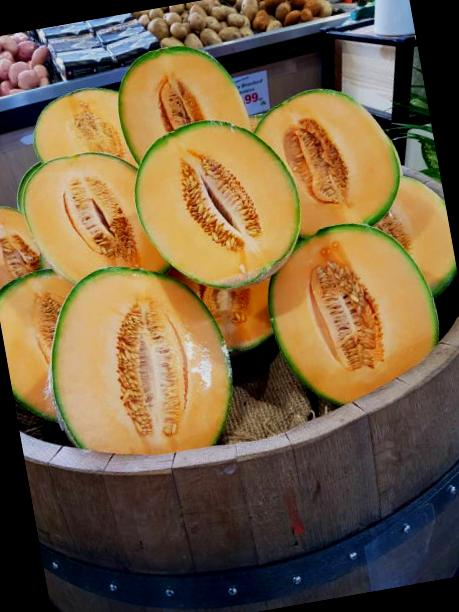Melon Ripe: (31, 248, 244, 470), (256, 208, 450, 411), (125, 107, 312, 303), (248, 79, 408, 242), (11, 144, 154, 288), (110, 35, 251, 157)
